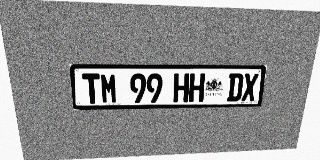9: (130, 73, 146, 103), (147, 73, 163, 103)
D: (227, 73, 244, 101)
H: (188, 73, 205, 102), (173, 73, 189, 102)
M: (100, 73, 118, 104)
T: (82, 73, 101, 104)
X: (241, 73, 259, 101)
